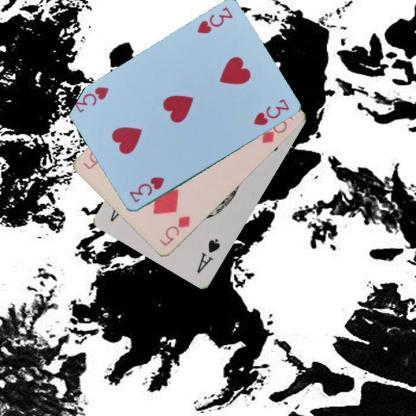3h: (194, 5, 234, 36), (126, 174, 166, 204)
5d: (156, 212, 194, 248)
As: (194, 236, 222, 275)
